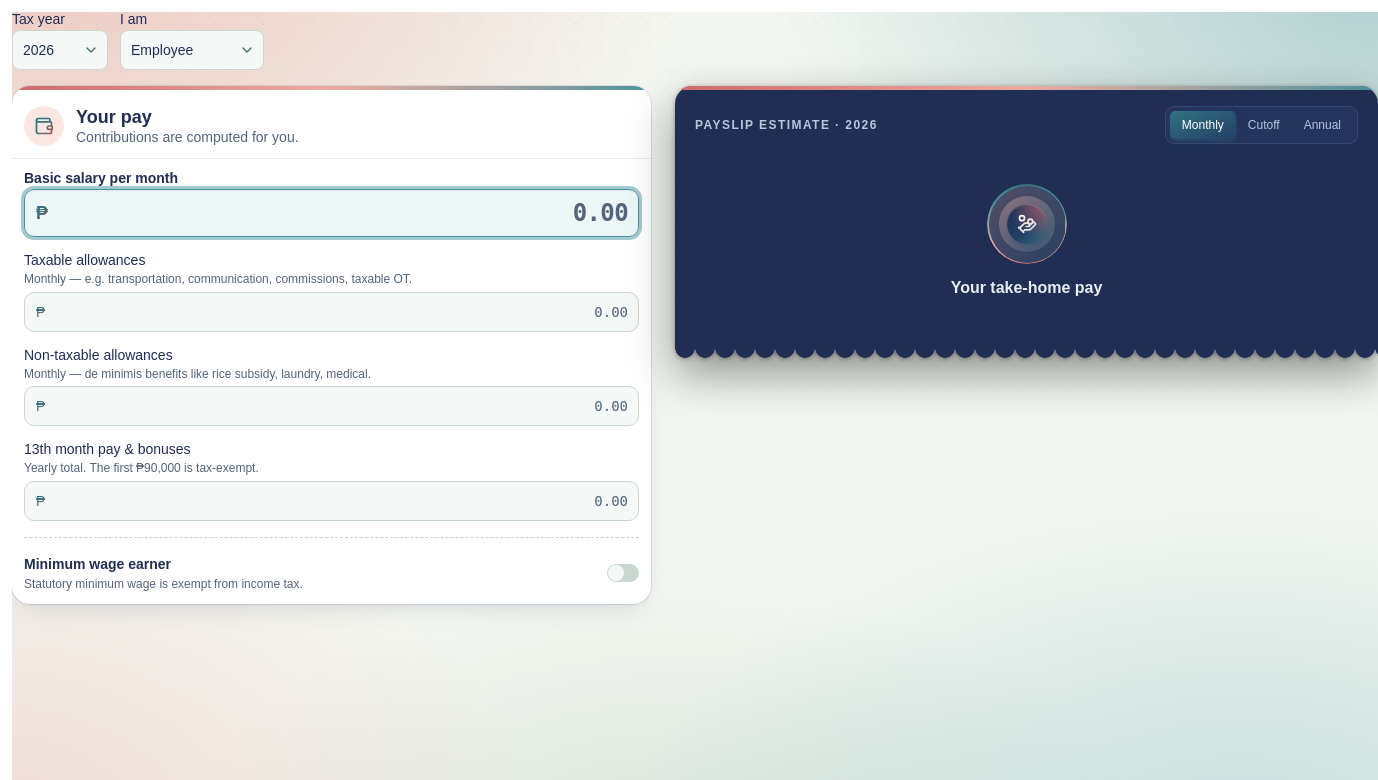
Monthly › shows the month for 35,000: take-home, tax, annual tax and the 15% bracket
In the field labelled "Basic salary per month": (332, 213) x1=24 y1=189 x2=639 y2=237, type "35000"
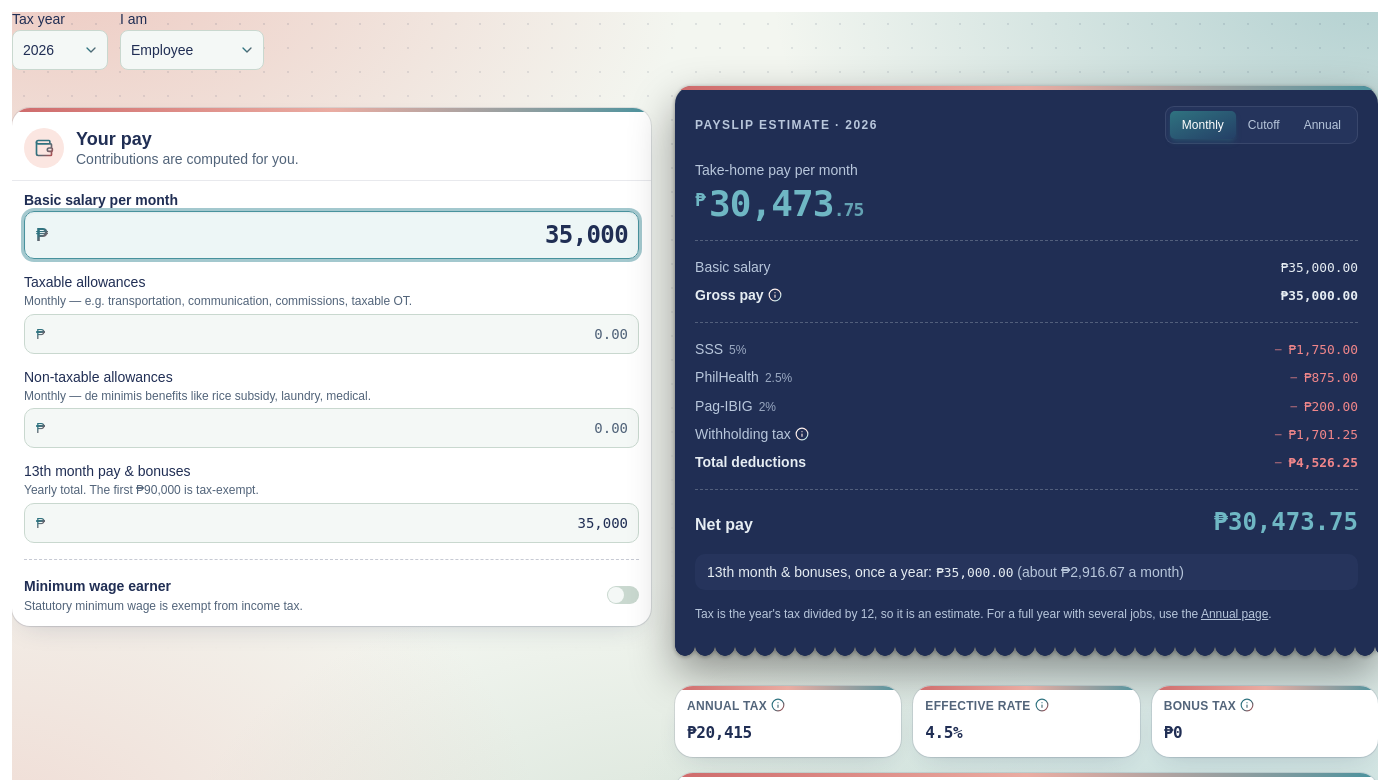
Check: the text "₱30,473.75" is shown, box x1=1214 y1=506 x2=1358 y2=538
Check: the text "₱1,701.25" is shown, box x1=1288 y1=427 x2=1358 y2=442
Check: the text "₱20,415" is shown, box x1=687 y1=723 x2=752 y2=742
